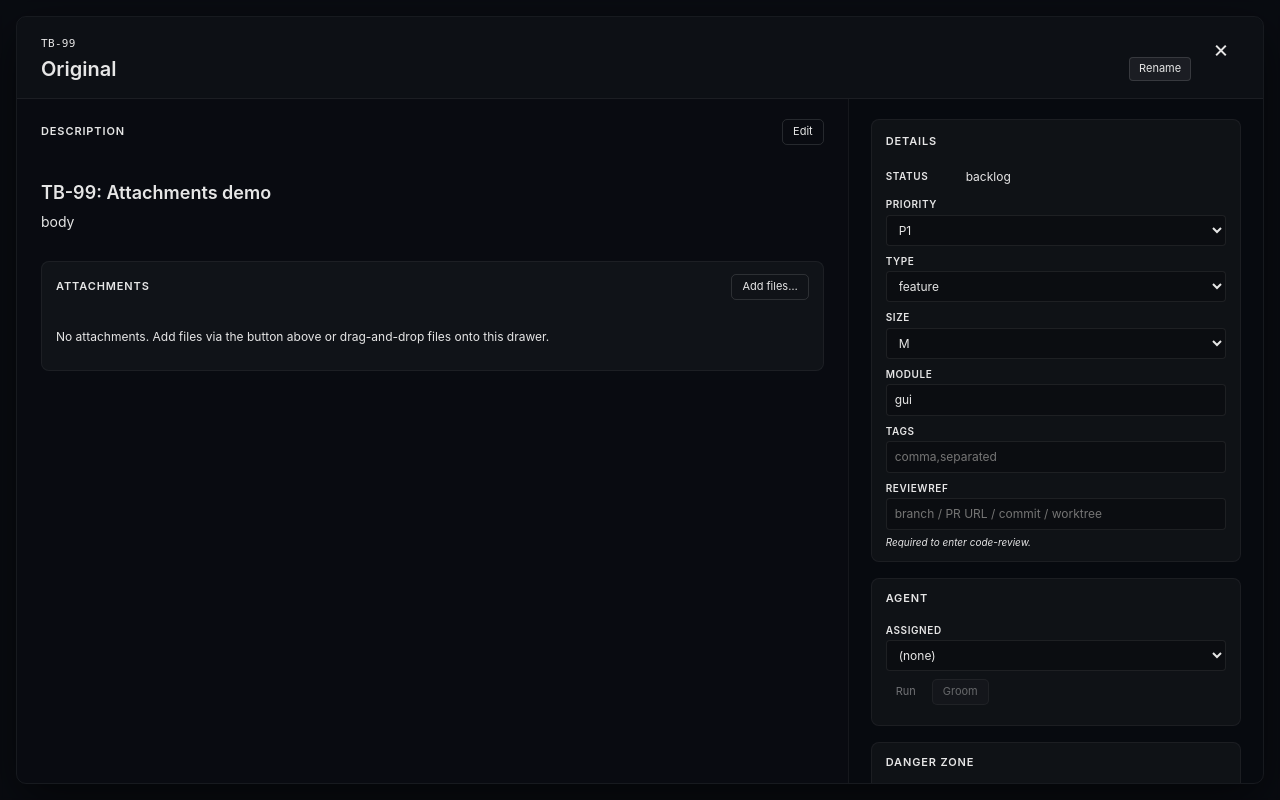
it: TaskDrawer inline title rename (TB-207) › double-click on the title also enters rename mode
Double-click the heading "Original": coordinates (79, 69) [41,57,116,81]
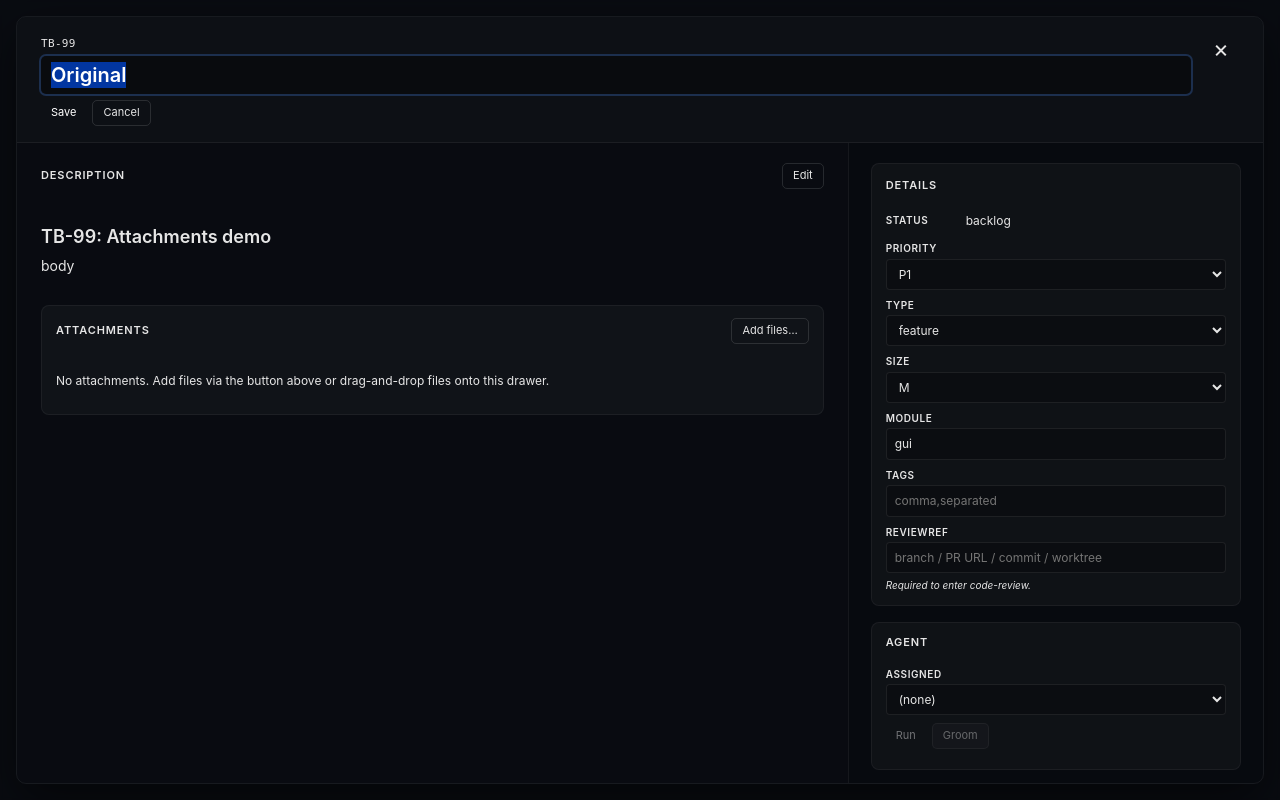
Expected: the field with class "title-input" is shown, [41,56,1191,94]
